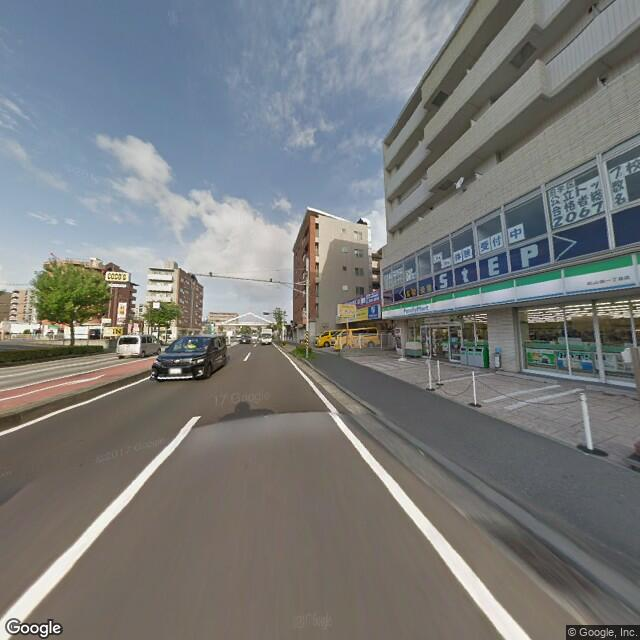family_mart: (383, 248, 637, 324)
